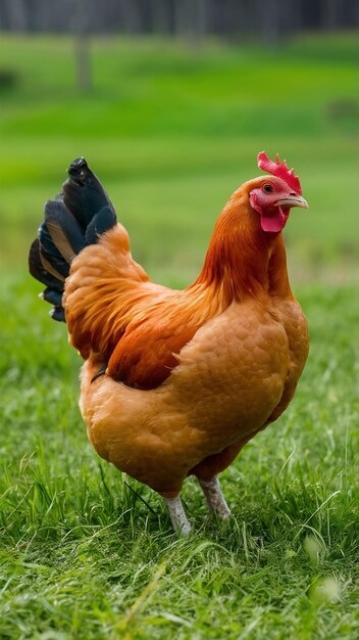Chicken: (27, 146, 313, 537)
